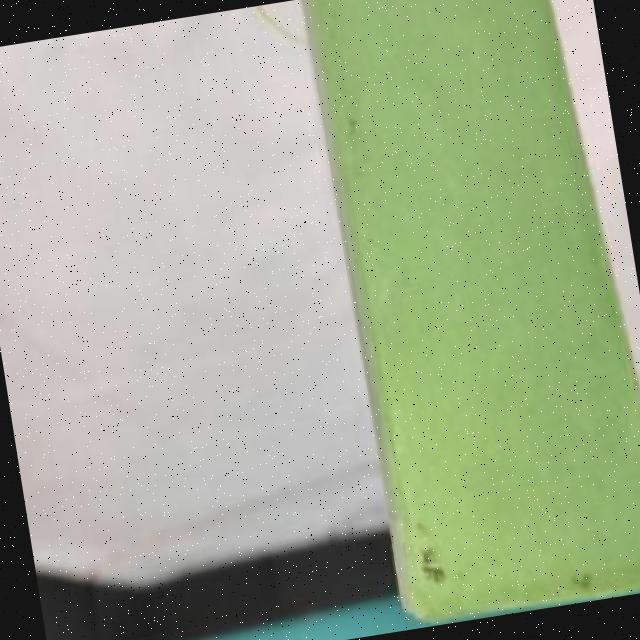greenbox: (303, 0, 640, 629)
